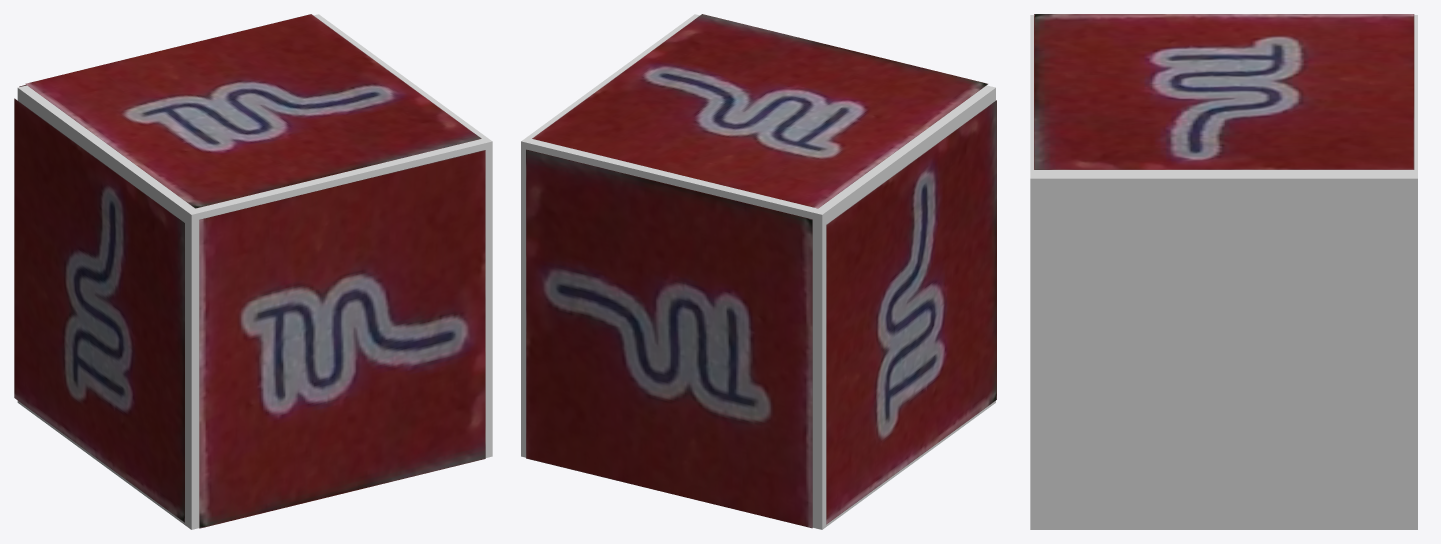
The picture shows the model from 3 angles, left to right: view 1: azimuth 30°, elevation 25°; view 2: azimuth 150°, elevation 25°; view 3: azimuth 270°, elevation 25°; orthographic projection. The views are drawn at different scales.
Parts seen in each view (by area): view 1: R1.004, R1.003, R1.002, Link30; view 2: R1.001, R1.003, R1.002, Link30; view 3: Link30, R1.002.
Part boxes in pixels (<box>): R1.004: <box>199,150,485,528</box>; R1.003: <box>14,98,184,522</box>; R1.002: <box>25,14,481,208</box>; Link30: <box>17,14,492,529</box>; R1.001: <box>526,149,812,528</box>; R1.003: <box>826,100,996,524</box>; R1.002: <box>532,14,987,208</box>; Link30: <box>521,14,995,529</box>; Link30: <box>1030,15,1417,529</box>; R1.002: <box>1034,14,1414,169</box>.
Bounding box in the file's own units: 0.3543 × 0.3623 × 0.3557.
Materials: 1 (1 with a texture image).
